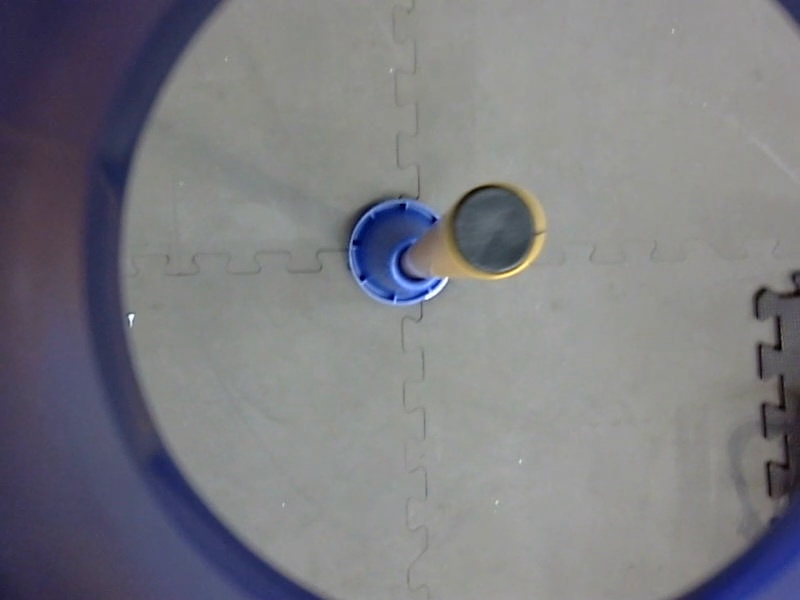tip: (437, 177, 551, 286)
